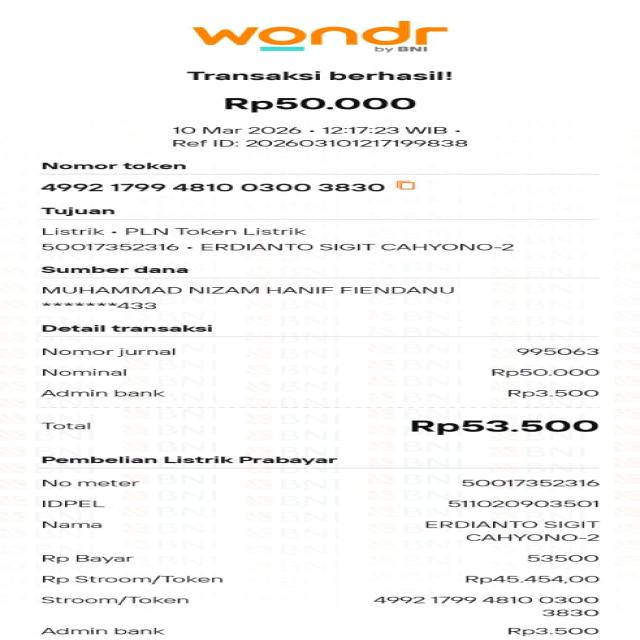date: (166, 122, 466, 136)
store: (179, 20, 460, 58)
total: (32, 418, 614, 438)
